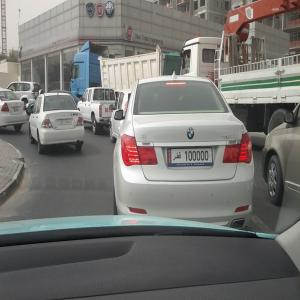Vehicle-registration-plate: (167, 148, 214, 167), (59, 119, 72, 126), (15, 108, 20, 112)
